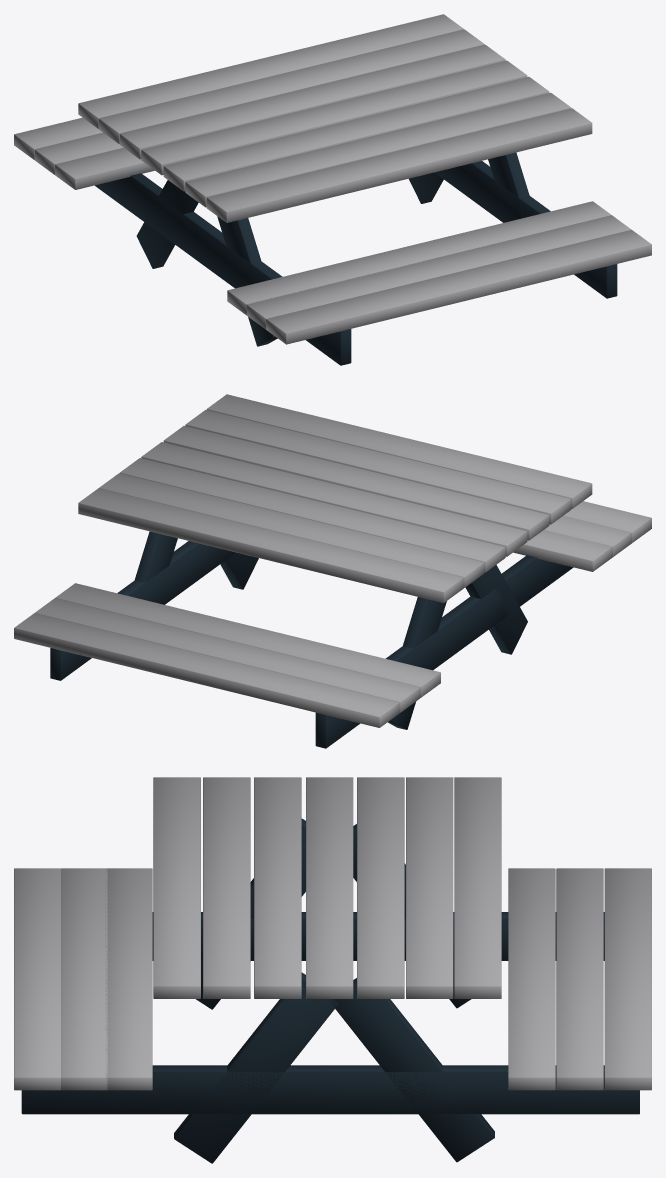
Rendered from Prop_PicnicTable_CS.glb.
The picture shows the model from 3 angles, top to bottom: view 1: azimuth 30°, elevation 25°; view 2: azimuth 150°, elevation 25°; view 3: azimuth 270°, elevation 25°; orthographic projection. The views are drawn at different scales.
Visible parts, largest first — view 1: Prop_PicnicTable_CS; view 2: Prop_PicnicTable_CS; view 3: Prop_PicnicTable_CS.
Part boxes in pixels (bbox=[...]): Prop_PicnicTable_CS: bbox=[14, 14, 651, 365]; Prop_PicnicTable_CS: bbox=[14, 394, 651, 748]; Prop_PicnicTable_CS: bbox=[14, 777, 651, 1163].
Size of the model in its own units: 1.9 by 0.8287 by 2.45.
